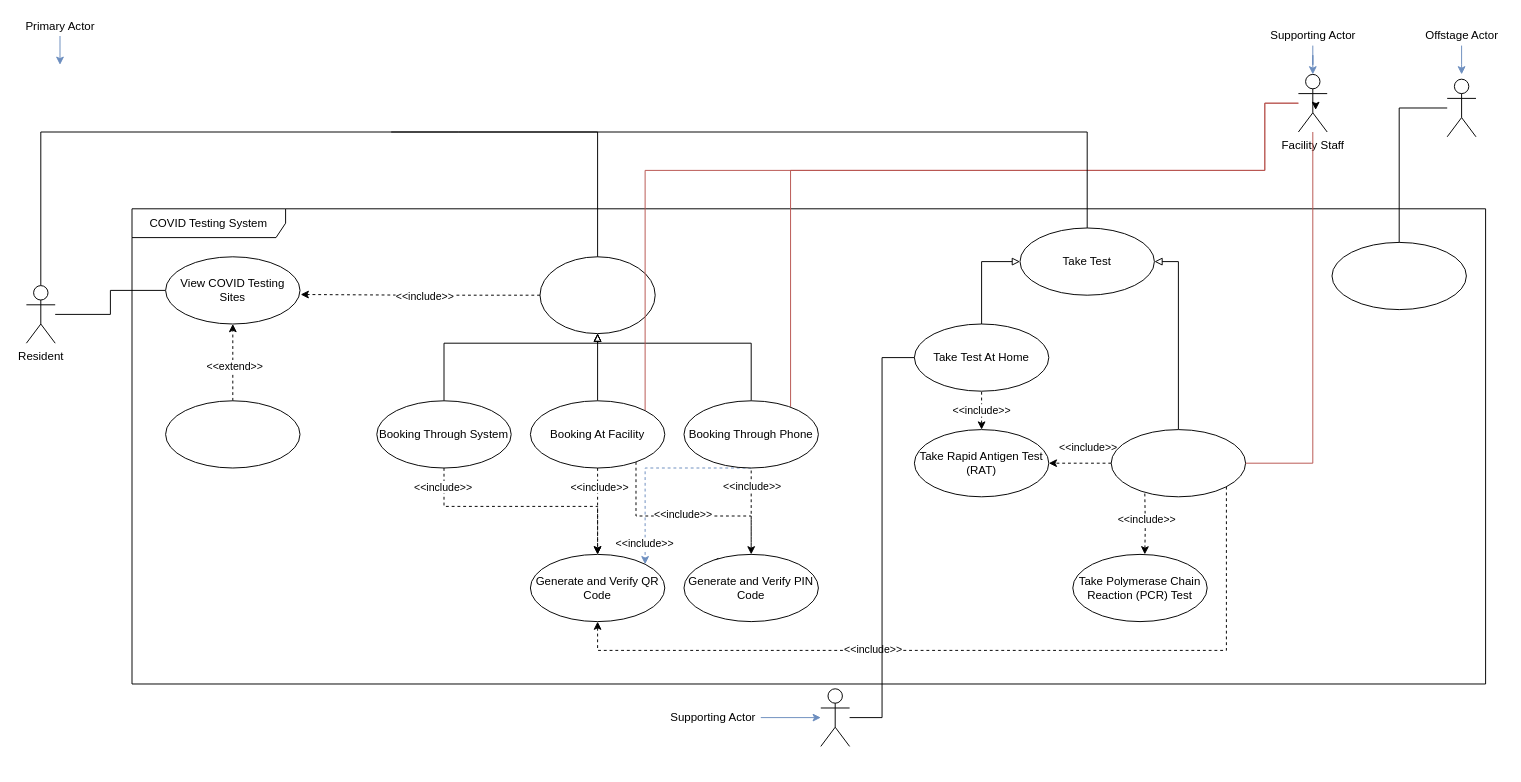
The diagram is 1521 pixels wide and 782 high, and some of its shapes have lost their labels. The shapes that lost their labels are listed below. From the top down, each one's centre as x and y in pixels, then its label:
(x=1461, y=107): Government
(x=597, y=295): Register for COVID Test
(x=1398, y=275): Gather Booking and Result Data
(x=232, y=434): Search COVID Testing Sites
(x=1178, y=463): Take Test At Testing Site
(x=835, y=717): Expert Team
